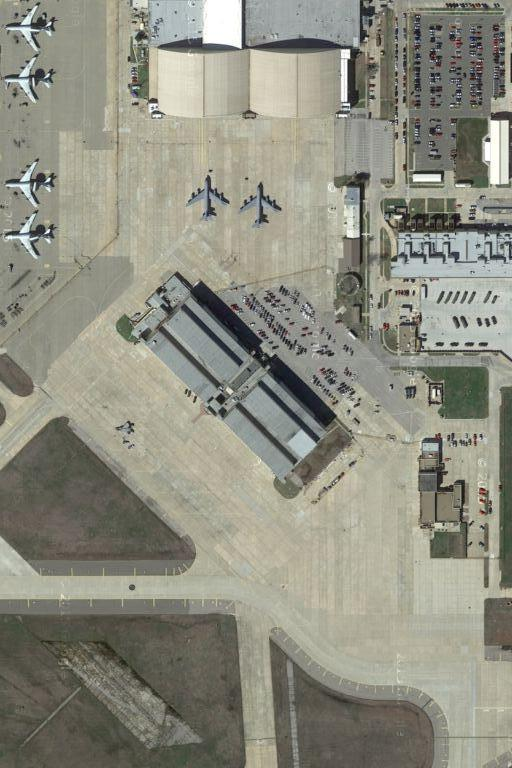E-3: (5, 207, 60, 262), (2, 158, 58, 211), (2, 54, 53, 108), (5, 5, 57, 55)
KC-135: (235, 178, 284, 229), (188, 174, 230, 223)
